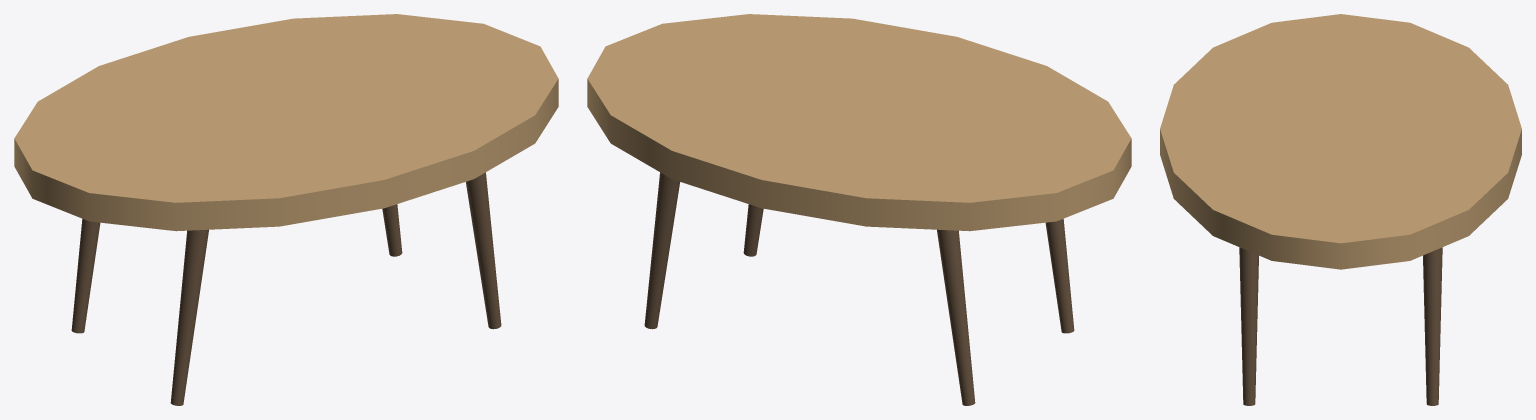
File: tablecoffee.glb
3 views of the same model, side by side, from view 1: azimuth 30°, elevation 25°; view 2: azimuth 150°, elevation 25°; view 3: azimuth 270°, elevation 25° (orthographic). The views are drawn at different scales.
Visible parts, largest first — view 1: atelier-warm-tablecoffee; view 2: atelier-warm-tablecoffee; view 3: atelier-warm-tablecoffee.
Boxes of the visible parts, left/top/right/bottom form: atelier-warm-tablecoffee: left=14, top=14, right=558, bottom=405; atelier-warm-tablecoffee: left=587, top=14, right=1131, bottom=405; atelier-warm-tablecoffee: left=1160, top=14, right=1521, bottom=405.
Bounding box in the file's own units: 2.4 × 0.9972 × 1.6.
